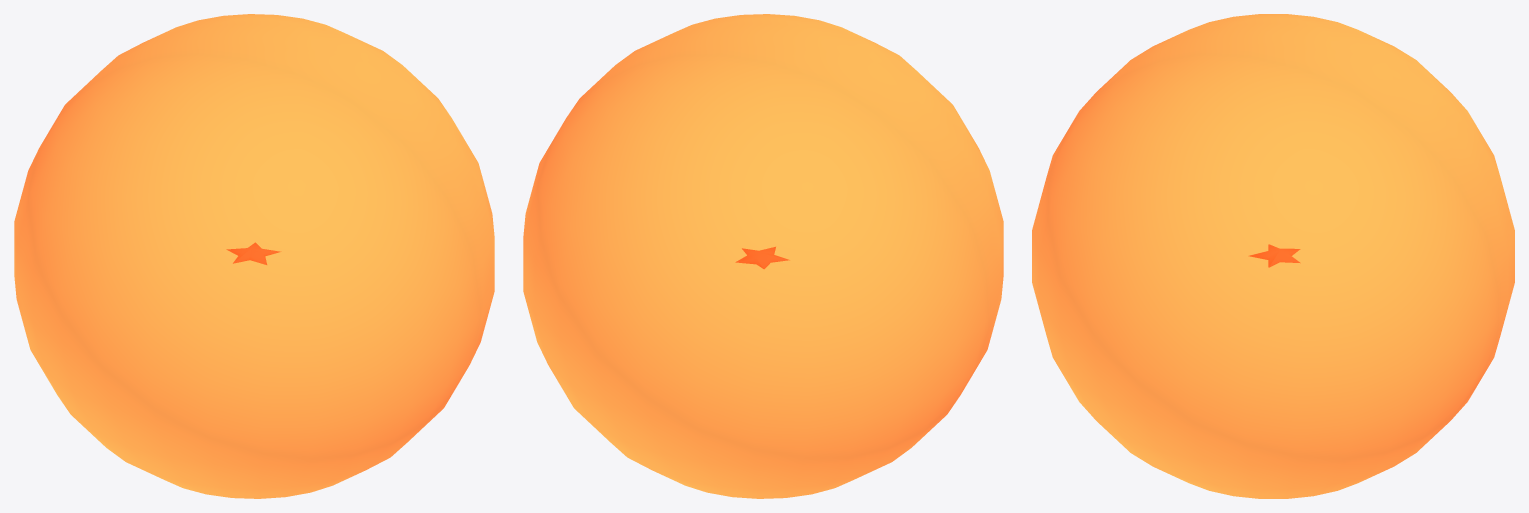
The model's file is first_ball.glb.
The picture shows the model from 3 angles, left to right: view 1: azimuth 30°, elevation 25°; view 2: azimuth 150°, elevation 25°; view 3: azimuth 270°, elevation 25°; orthographic projection.
Parts seen in each view (by area): view 1: One Star_02 - Default_0, One Star_03 - Default_0; view 2: One Star_02 - Default_0, One Star_03 - Default_0; view 3: One Star_02 - Default_0, One Star_03 - Default_0.
Part boxes in pixels (x1=…): One Star_02 - Default_0: x1=14, y1=14, x2=494, y2=498; One Star_03 - Default_0: x1=227, y1=242, x2=279, y2=264; One Star_02 - Default_0: x1=523, y1=14, x2=1003, y2=498; One Star_03 - Default_0: x1=736, y1=247, x2=788, y2=268; One Star_02 - Default_0: x1=1032, y1=14, x2=1514, y2=498; One Star_03 - Default_0: x1=1250, y1=244, x2=1299, y2=267.
Bounding box in the file's own units: 248 × 252 × 250.
2 materials, 2 textured.
